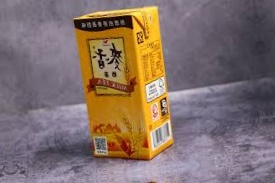鋁箔包: (69, 1, 182, 169), (93, 177, 206, 183)
